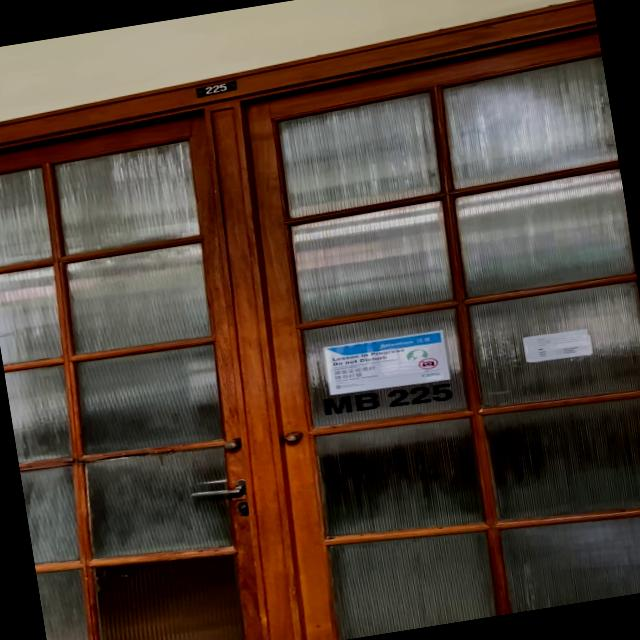room225: (193, 78, 241, 100)
room225Window: (321, 377, 456, 420)
